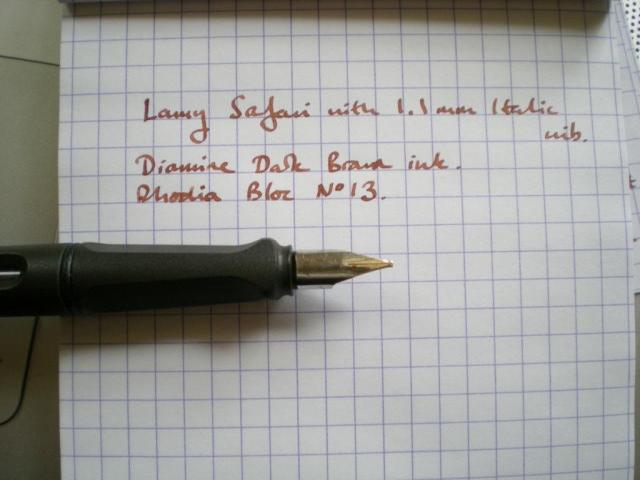PEN: (0, 233, 394, 319)
